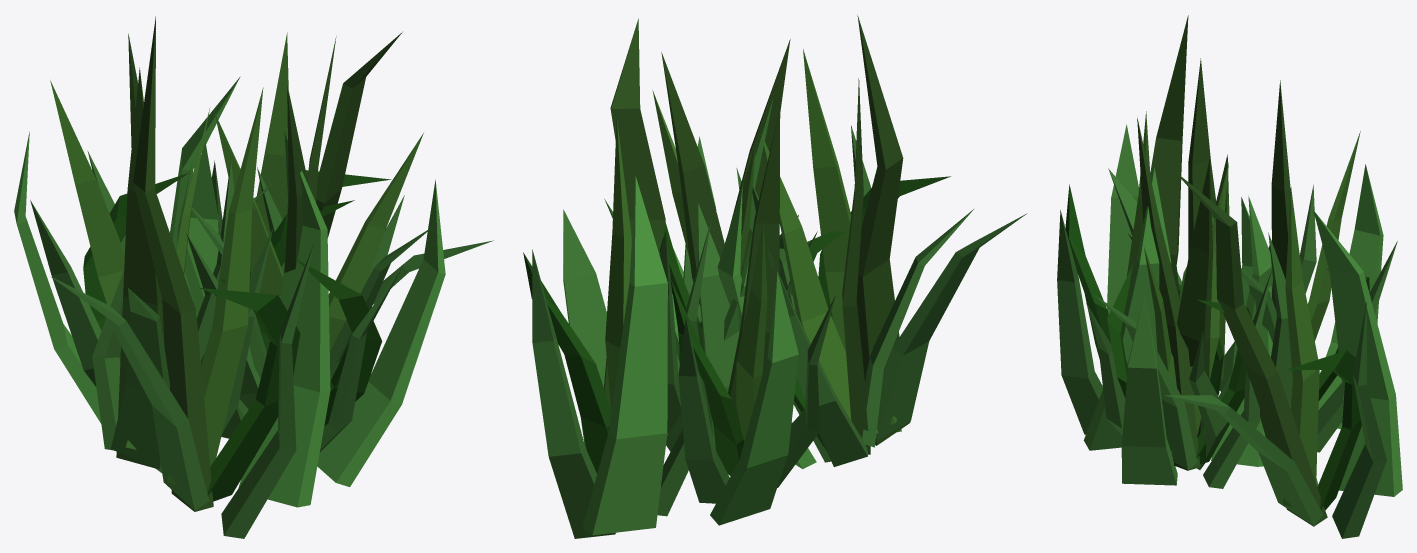
The model's file is HugeBunch.fbx.
3 renders of one model, left to right at view 1: azimuth 30°, elevation 25°; view 2: azimuth 150°, elevation 25°; view 3: azimuth 270°, elevation 25°, orthographic. The views are drawn at different scales.
Visible parts, largest first — view 1: Cube.004, Cube.005, Cube.003, Cube.002, Cube.001, Cube; view 2: Cube.001, Cube.002, Cube.004, Cube.003, Cube, Cube.005; view 3: Cube.001, Cube.004, Cube.005, Cube, Cube.002, Cube.003.
Boxes of the visible parts, x1,y1,x2,y2 form: Cube.004: [50, 16, 330, 538]; Cube.005: [186, 36, 445, 486]; Cube.003: [92, 67, 272, 472]; Cube.002: [14, 33, 276, 423]; Cube.001: [170, 32, 493, 438]; Cube: [177, 85, 434, 415]; Cube.001: [523, 18, 710, 538]; Cube.002: [670, 108, 835, 525]; Cube.004: [749, 15, 1027, 445]; Cube.003: [717, 78, 973, 469]; Cube: [659, 39, 817, 451]; Cube.005: [604, 52, 798, 373]; Cube.001: [1164, 171, 1402, 538]; Cube.004: [1057, 15, 1213, 450]; Cube.005: [1086, 158, 1228, 485]; Cube: [1093, 118, 1272, 488]; Cube.002: [1241, 80, 1397, 452]; Cube.003: [1108, 58, 1272, 400].
Size of the model in its own units: 319 by 343 by 243.
